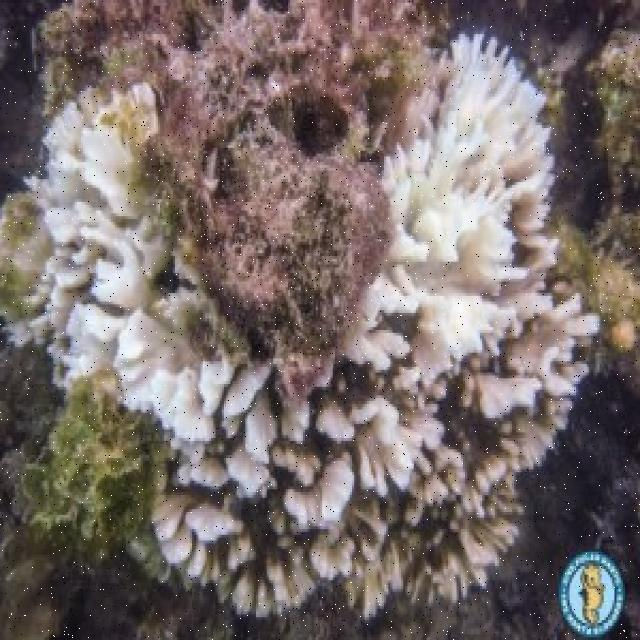Bleached: (35, 43, 603, 632)
Healthy: (1, 409, 141, 640)
